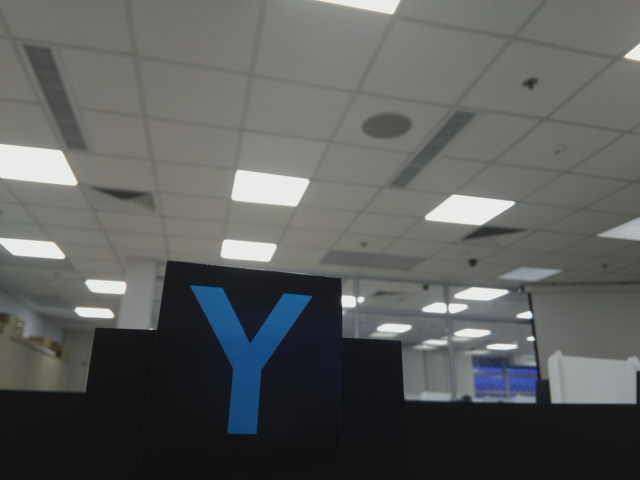y: (184, 277, 323, 441)
